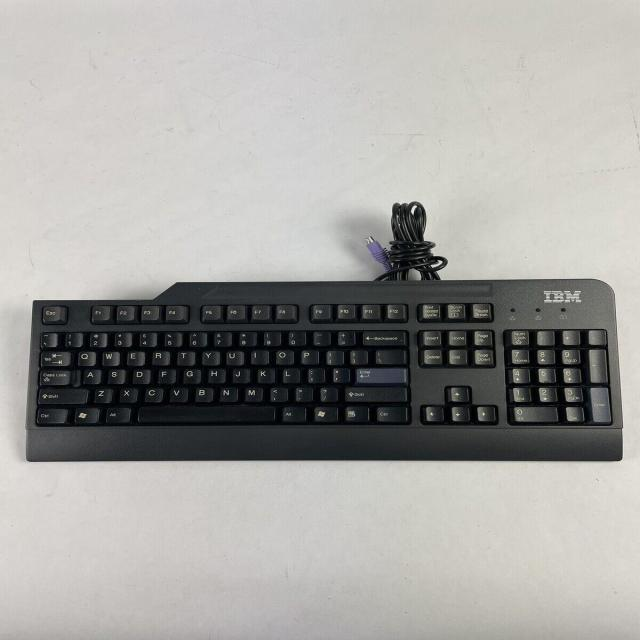keyboard: (26, 299, 625, 430)
